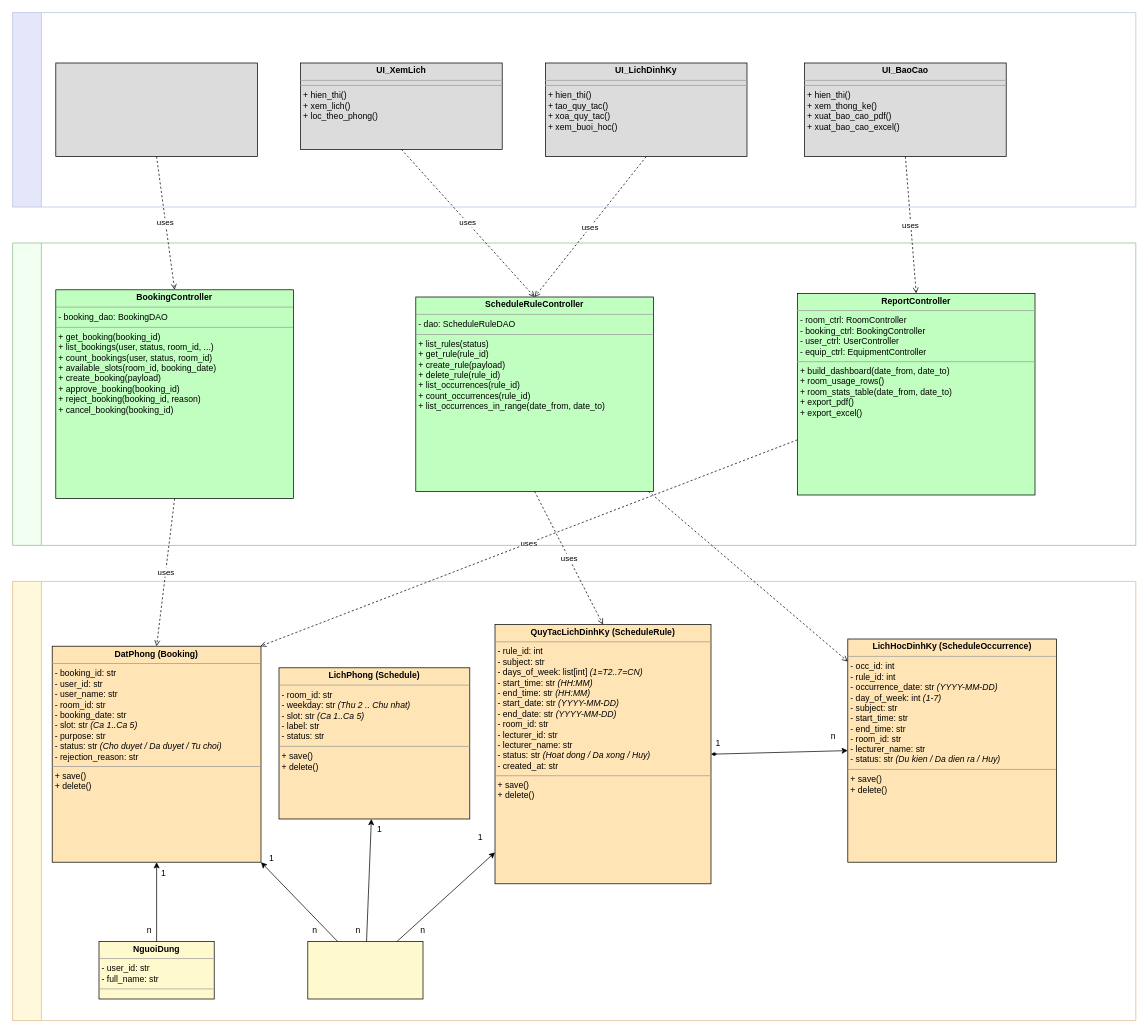
The diagram is 1148 pixels wide and 1033 high, and some of its shapes have lost their labels. The shapes that lost their labels are listed below. From the top down, each one's box as (x1, y1, x2, y2) in pixels, then its label:
(55, 62, 257, 157): UI_DatPhong + hien_thi() + dat_phong() + huy_dat_phong() + duyet_dat_phong()
(12, 12, 1136, 207): TẦNG 1: UI / VIEW
(12, 242, 1136, 545): TẦNG 2: CONTROLLER
(12, 581, 1136, 1021): TẦNG 3: MODEL / ENTITY
(307, 941, 423, 999): PhongHoc - room_id: str - name: str
